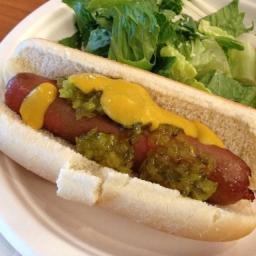hotdog: (92, 110, 252, 208), (4, 70, 90, 135)
